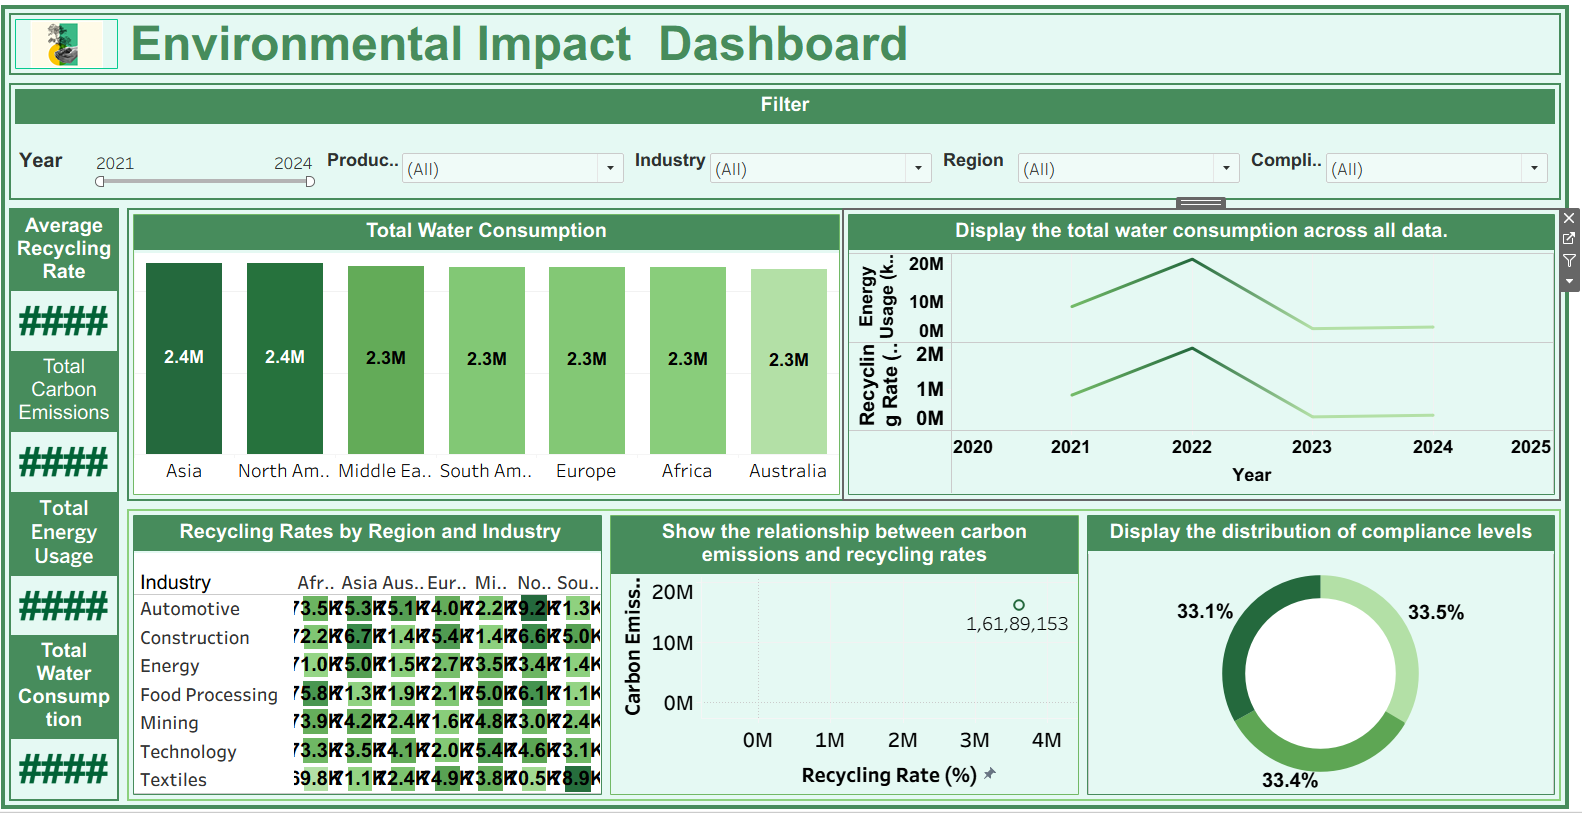

The dashboard page shown, as its layout file describes it:
{"tool":"tableau","page":{"name":"Dashboard 1","canvas":[1000,1000],"units":"permille","ordinal":0},"visuals":[{"type":"image","param":"Image/Logo.jpg","box":[18,26.6,65,67.1]},{"type":"text","box":[82.9,26.6,900.9,67.1]},{"type":"worksheet","title":"Filter","mark":"Automatic","box":[18.1,107.6,965.5,61.3]},{"type":"filter","title":"Filter","param":"[federated.1t50znf1f86f461dic4cm0snf5f4].[none:Year:qk]","box":[20.5,173.6,192.5,50.9]},{"type":"filter","title":"Filter","param":"[federated.1t50znf1f86f461dic4cm0snf5f4].[none:Product Type:nk]","box":[213,173.6,192.5,50.9]},{"type":"filter","title":"Filter","param":"[federated.1t50znf1f86f461dic4cm0snf5f4].[none:Industry:nk]","box":[405.5,173.6,191.9,50.9]},{"type":"filter","title":"Filter","param":"[federated.1t50znf1f86f461dic4cm0snf5f4].[none:Region:nk]","box":[597.4,173.6,191.9,50.9]},{"type":"filter","title":"Filter","param":"[federated.1t50znf1f86f461dic4cm0snf5f4].[none:Compliance Level:nk]","box":[789.4,173.6,191.9,50.9]},{"type":"worksheet","title":"Average Recycling Rate","mark":"Automatic","box":[18,243.1,62,185.2]},{"type":"worksheet","title":"Total Water Consumption (2)","mark":"Automatic","rows":["Carbon Emissions (kg)"],"cols":["Region"],"box":[87.2,243.1,448.2,364.6]},{"type":"worksheet","title":"Display the total water consumption across all data.","mark":"Automatic","rows":["Energy Usage (kWh)","Recycling Rate (%)"],"cols":["Year"],"box":[535.4,243.1,448.2,364.6]},{"type":"worksheet","title":"Total Carbon Emissions","mark":"Automatic","box":[18,428.3,62,185.2]},{"type":"worksheet","title":"Total Energy Usage","mark":"Automatic","box":[18,613.5,62,187.5]},{"type":"worksheet","title":" Recycling Rates by Region and Industry","mark":"Automatic","rows":["Industry"],"cols":["Region"],"box":[87.2,621.5,299,364.6]},{"type":"worksheet","title":"Show therelationshipbetween carbonemissions andrecycling rates","mark":"Automatic","rows":["Carbon Emissions (kg)"],"cols":["Recycling Rate (%)"],"box":[386.2,621.5,299,364.6]},{"type":"worksheet","title":"Display thedistribution ofcompliance levels","mark":"Pie","rows":["Calculation_1493787747064074241","Calculation_1493787747064074241"],"box":[685.2,621.5,298.4,364.6]},{"type":"worksheet","title":"Total Water Consumption","mark":"Automatic","box":[18,800.9,62,185.2]}]}

Visuals, with their boxes on the dashboard's canvas, which has no fixed pixel size, in thousandths of its width and height (x1, y1, x2, y2). These are canvas units, not pixel positions in the 1582x813 screenshot, which may show the page scaled, cropped or inside an application window:
image: bbox=(18, 27, 83, 94)
text: bbox=(83, 27, 984, 94)
"Filter" worksheet: bbox=(18, 108, 984, 169)
"Filter" filter: bbox=(20, 174, 213, 224)
"Filter" filter: bbox=(213, 174, 406, 224)
"Filter" filter: bbox=(406, 174, 597, 224)
"Filter" filter: bbox=(597, 174, 789, 224)
"Filter" filter: bbox=(789, 174, 981, 224)
"Average Recycling Rate" worksheet: bbox=(18, 243, 80, 428)
"Total Water Consumption (2)" worksheet: bbox=(87, 243, 535, 608)
"Display the total water consumption across all data." worksheet: bbox=(535, 243, 984, 608)
"Total Carbon Emissions" worksheet: bbox=(18, 428, 80, 614)
"Total Energy Usage" worksheet: bbox=(18, 614, 80, 801)
" Recycling Rates by Region and Industry" worksheet: bbox=(87, 622, 386, 986)
"Show therelationshipbetween carbonemissions andrecycling rates" worksheet: bbox=(386, 622, 685, 986)
"Display thedistribution ofcompliance levels" worksheet (Pie marks): bbox=(685, 622, 984, 986)
"Total Water Consumption" worksheet: bbox=(18, 801, 80, 986)
